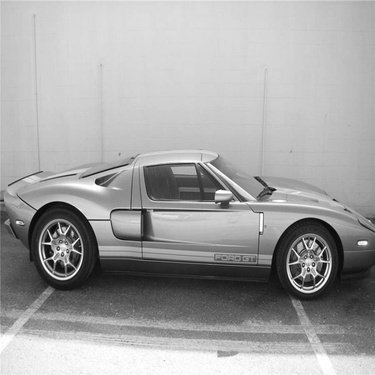car: (2, 108, 368, 301)
